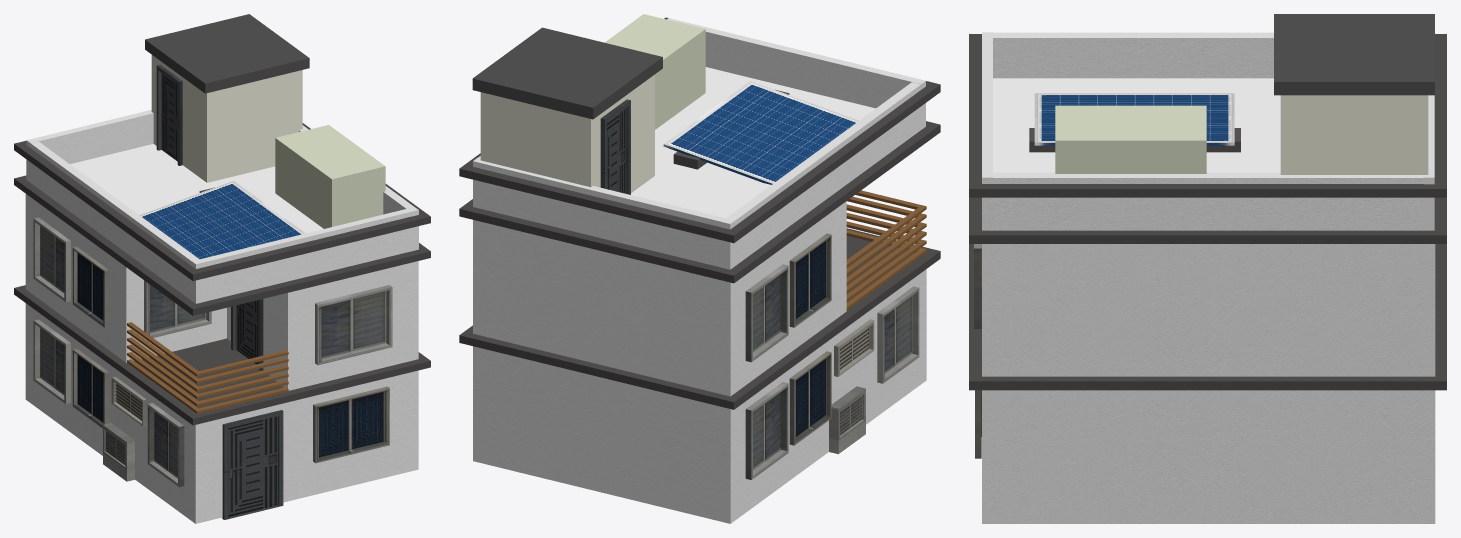
The model's file is building3.glb.
3 views of the same model, side by side, from view 1: azimuth 30°, elevation 25°; view 2: azimuth 150°, elevation 25°; view 3: azimuth 270°, elevation 25° (orthographic). The views are drawn at different scales.
Parts seen in each view (by area): view 1: Object_12, Object_11, Object_8, Object_9, Object_4, Object_2, Object_5, Object_3, Object_7, Object_10, Object_13; view 2: Object_12, Object_8, Object_11, Object_9, Object_4, Object_7, Object_5, Object_3, Object_10, Object_13, Object_2; view 3: Object_12, Object_10, Object_8, Object_5, Object_3, Object_4, Object_2, Object_7, Object_9, Object_11, Object_6.
Part boxes in pixels (x1,y1,x2,y2): Object_12: [25, 194, 418, 523]; Object_11: [33, 64, 392, 519]; Object_8: [14, 123, 430, 425]; Object_9: [27, 110, 417, 303]; Object_4: [151, 55, 302, 182]; Object_2: [275, 125, 385, 228]; Object_5: [145, 14, 309, 93]; Object_3: [70, 144, 323, 233]; Object_7: [139, 180, 305, 259]; Object_10: [26, 125, 418, 300]; Object_13: [127, 322, 288, 413]; Object_12: [473, 201, 926, 523]; Object_8: [459, 17, 940, 409]; Object_11: [600, 99, 919, 479]; Object_9: [473, 18, 925, 267]; Object_4: [480, 74, 654, 192]; Object_7: [663, 81, 858, 184]; Object_5: [472, 27, 662, 119]; Object_3: [631, 67, 875, 217]; Object_10: [478, 18, 921, 269]; Object_13: [846, 190, 926, 310]; Object_2: [605, 14, 705, 129]; Object_12: [982, 244, 1435, 523]; Object_10: [982, 32, 1423, 230]; Object_8: [969, 34, 1446, 390]; Object_5: [1274, 14, 1434, 95]; Object_3: [993, 78, 1280, 172]; Object_4: [1280, 95, 1428, 174]; Object_2: [1055, 105, 1206, 173]; Object_7: [1034, 93, 1234, 145]; Object_9: [982, 32, 1434, 230]; Object_11: [974, 244, 981, 458]; Object_6: [1029, 128, 1240, 152].
Bounding box in the file's own units: 1.4 × 1.86 × 1.82.
11 materials, 4 textured.
